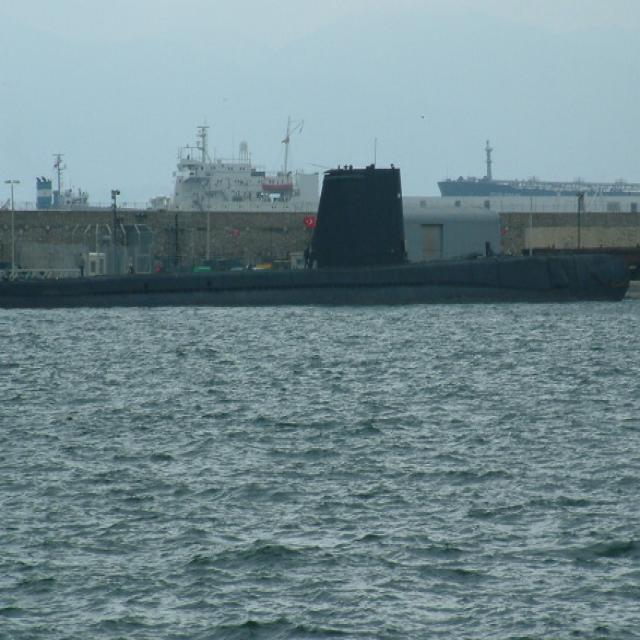submarine: (1, 169, 640, 313)
